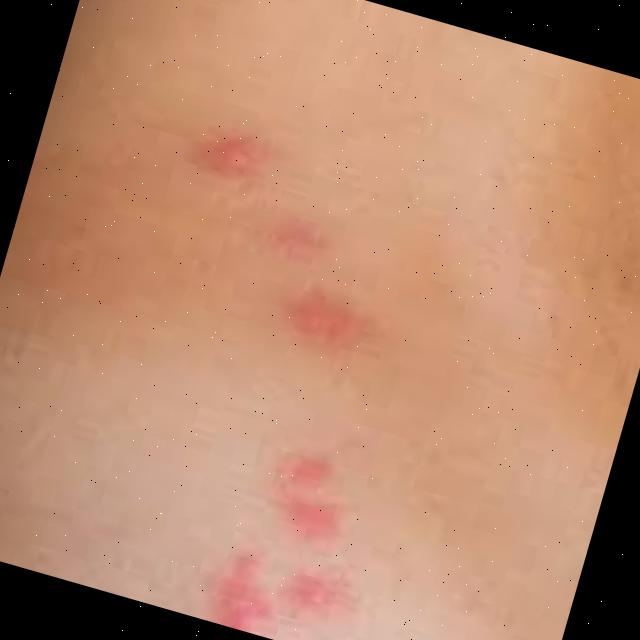tahta-kurusu: (208, 407, 385, 553), (249, 263, 396, 379), (184, 545, 302, 638), (285, 550, 399, 640), (172, 115, 272, 190), (275, 218, 354, 269)
